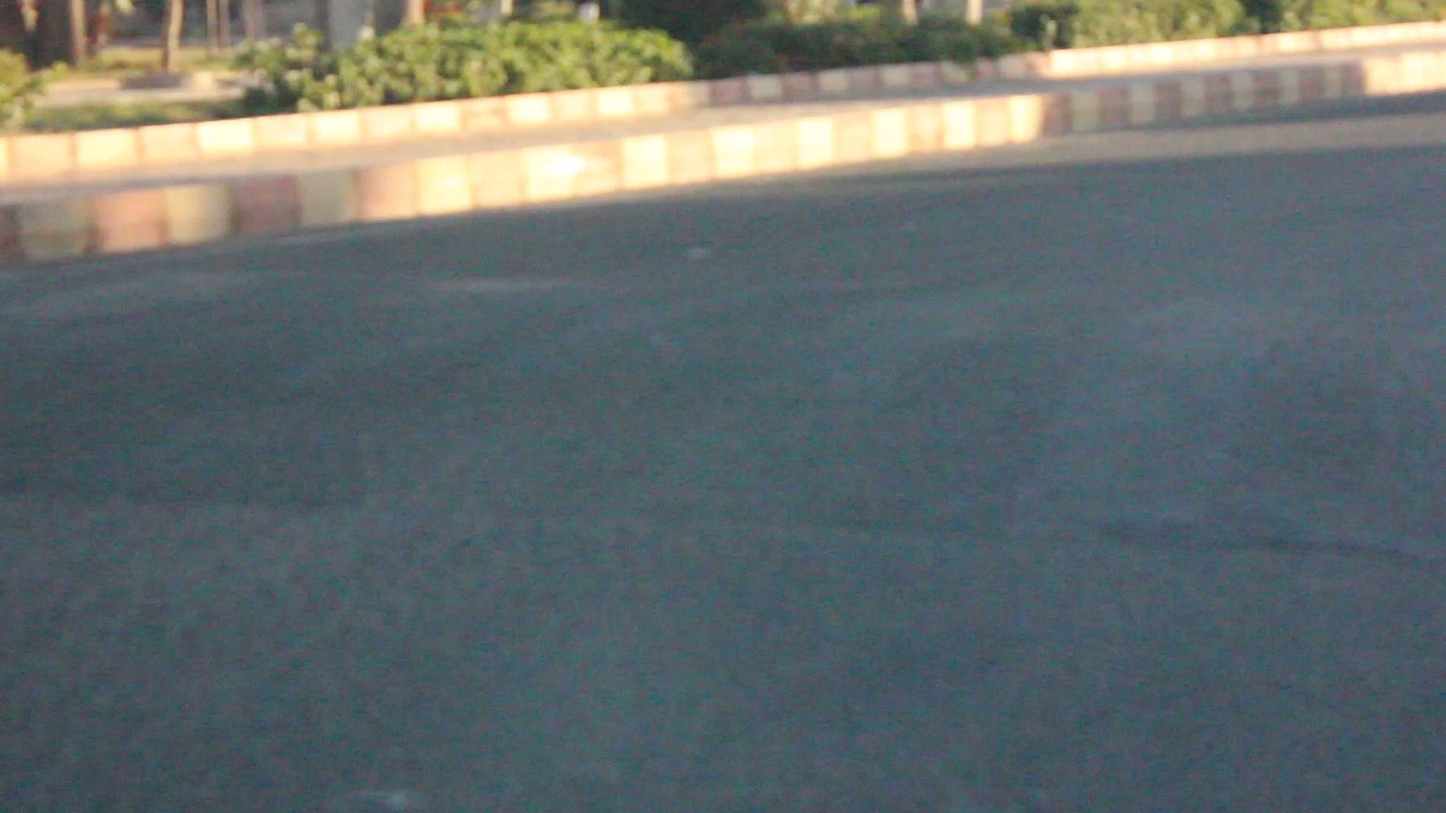Bump: (0, 247, 1445, 559)
